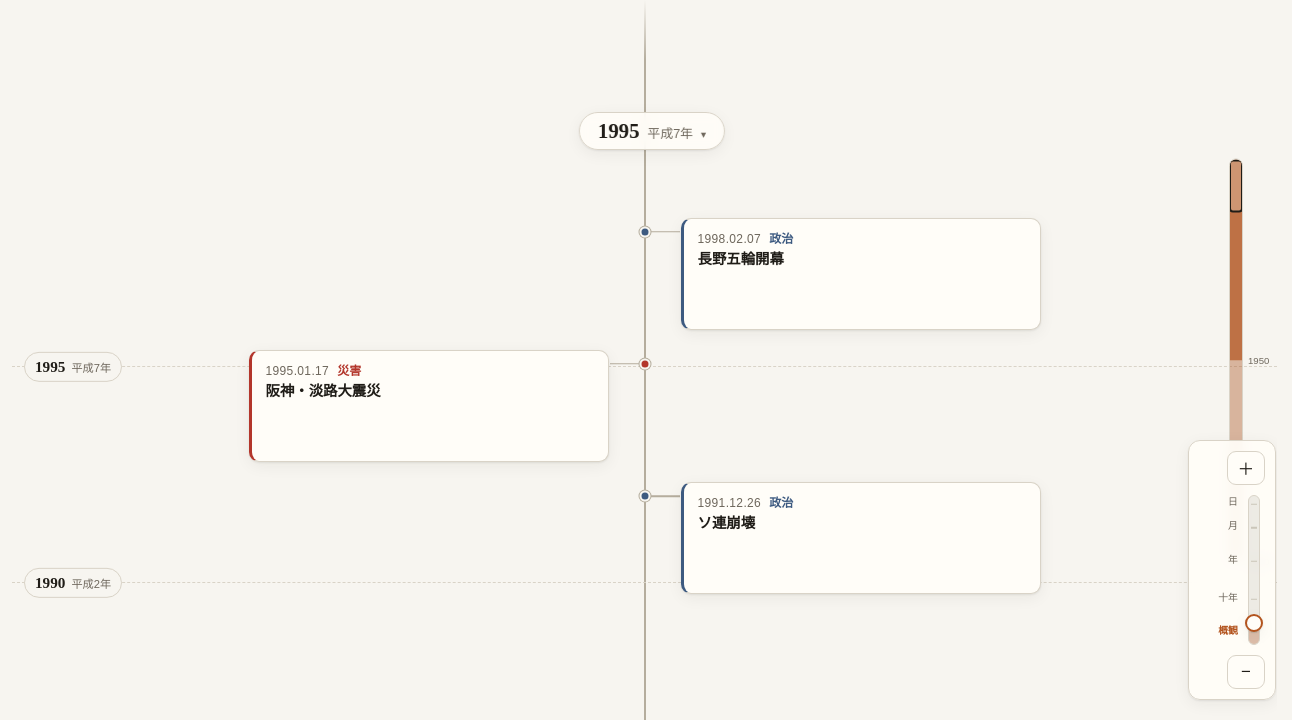
it: Timeline › does not steal focus when Escape comes from another widget
Click the button with aria-label "年代へジャンプ" at [652, 131], box [579,112,725,150]
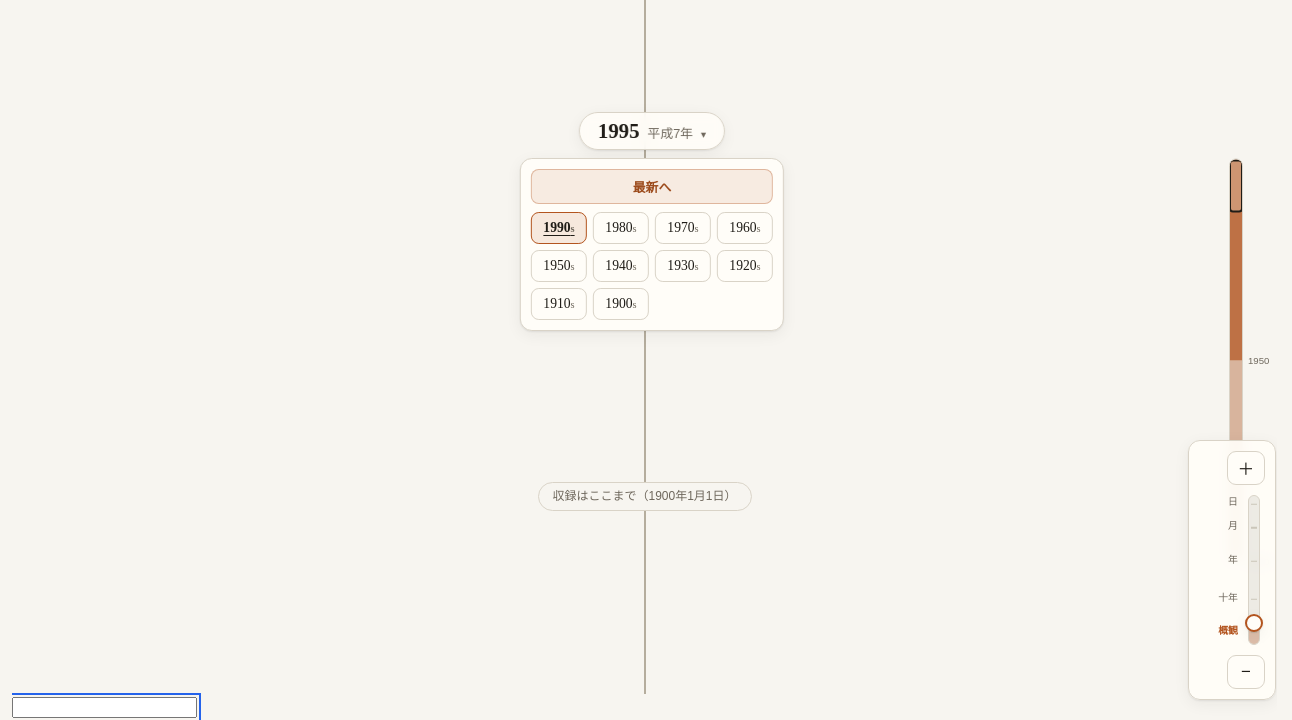
Press Escape
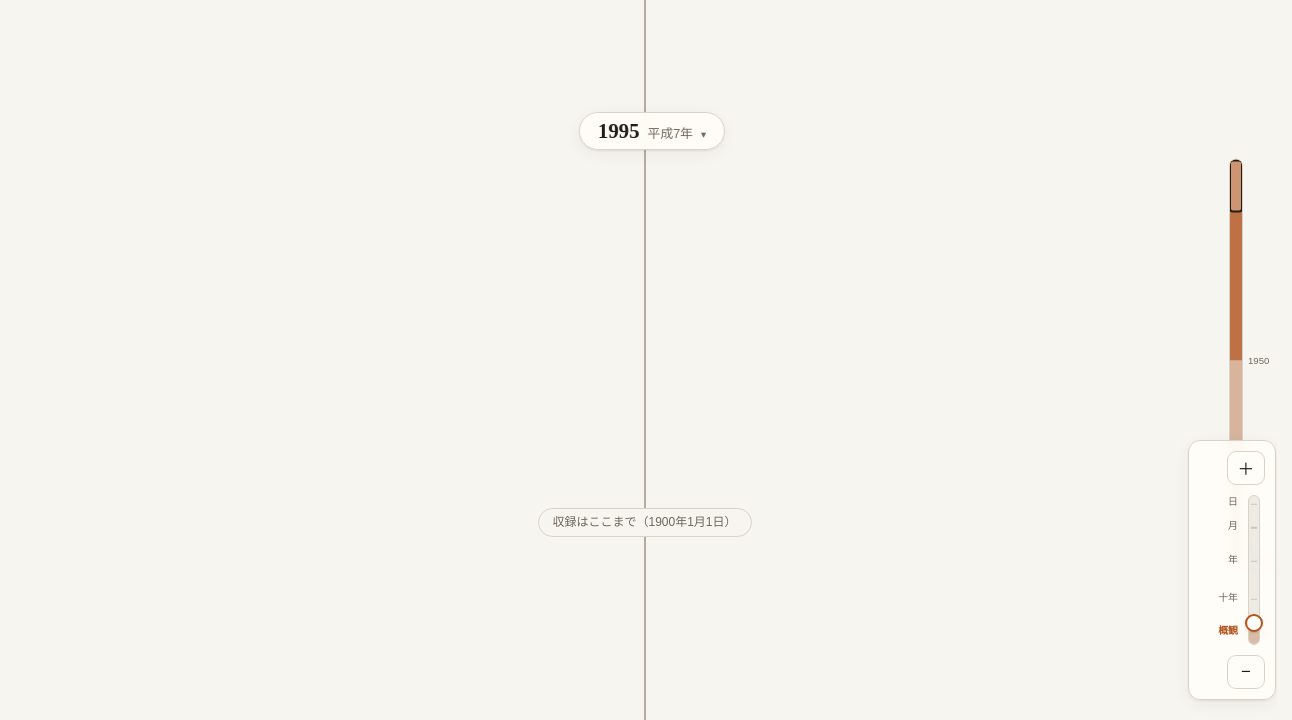
Check: the element "年代を選択" is gone
